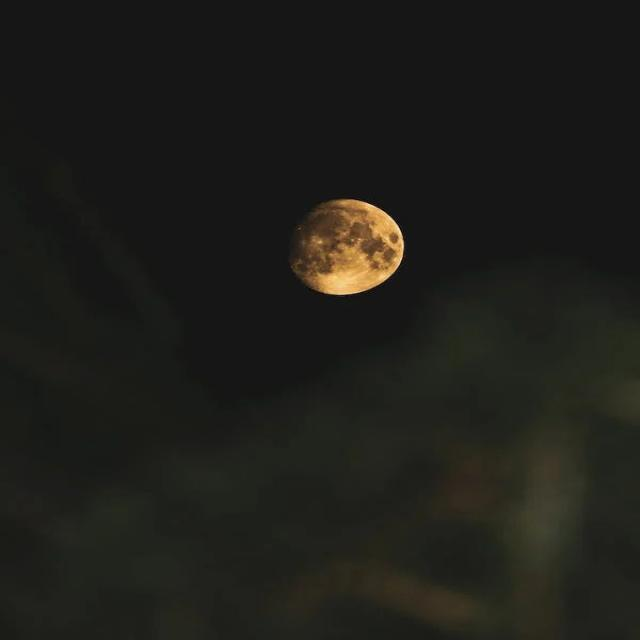moon: (276, 190, 412, 308)
